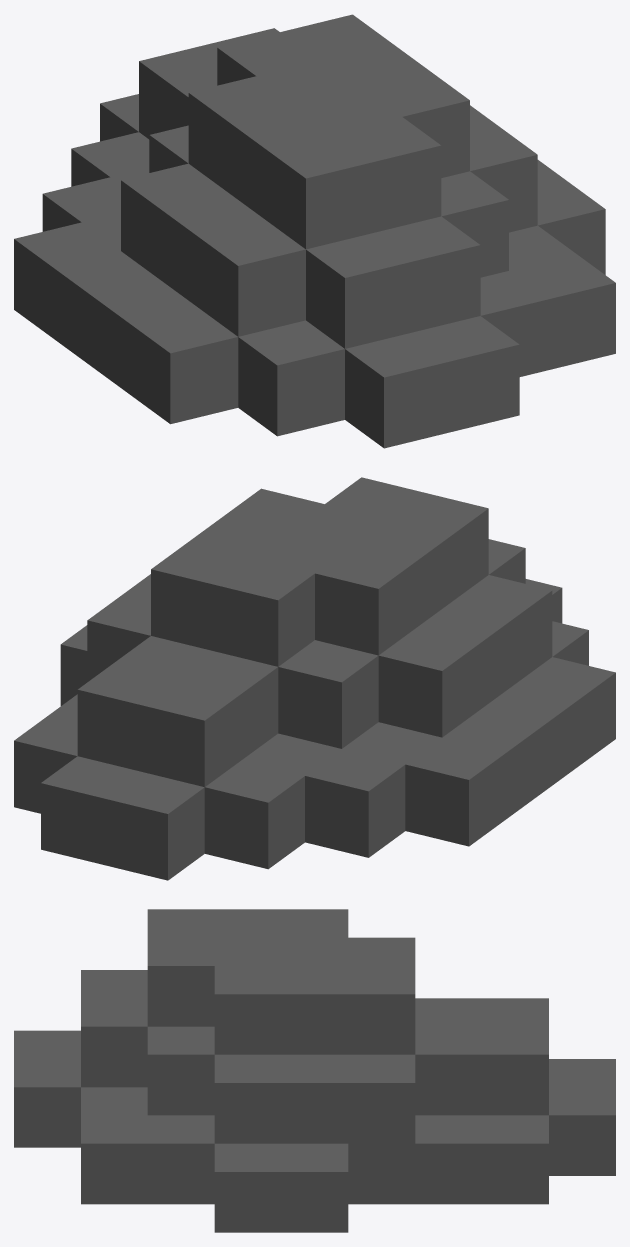
File: Rock1.obj
3 renders of one model, top to bottom at view 1: azimuth 30°, elevation 25°; view 2: azimuth 150°, elevation 25°; view 3: azimuth 270°, elevation 25°, orthographic. The views are drawn at different scales.
Size of the model in its own units: 7 by 3 by 9.
Materials: 1 (1 with a texture image).
